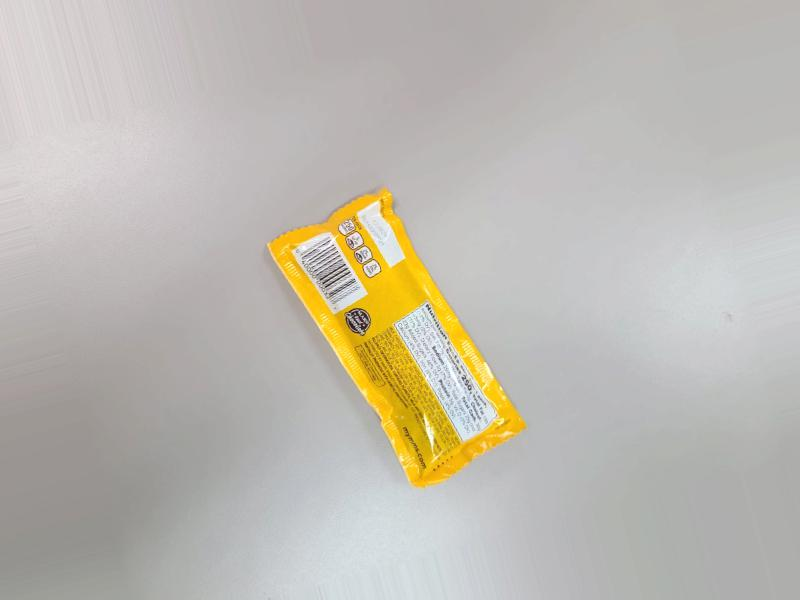m&m: (243, 184, 521, 484)
